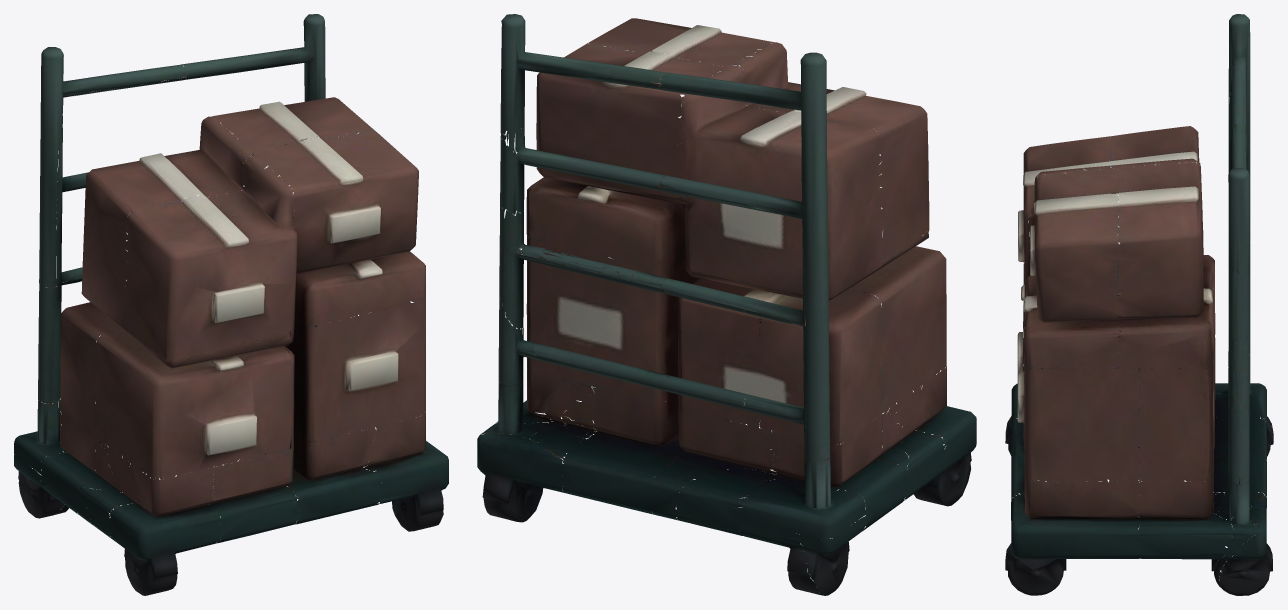
The model's file is parcel-trolley-hi3d-512-BQ8uI_zi.glb.
3 renders of one model, left to right at view 1: azimuth 30°, elevation 25°; view 2: azimuth 150°, elevation 25°; view 3: azimuth 270°, elevation 25°, orthographic. The views are drawn at different scales.
Parts seen in each view (by area): view 1: world; view 2: world; view 3: world.
Boxes of the visible parts, <box> form: world: <box>14,14,448,595</box>; world: <box>477,14,976,595</box>; world: <box>1005,14,1273,595</box>.
Bounding box in the file's own units: 1.32 × 1.88 × 1.01.
1 material, 1 textured.
